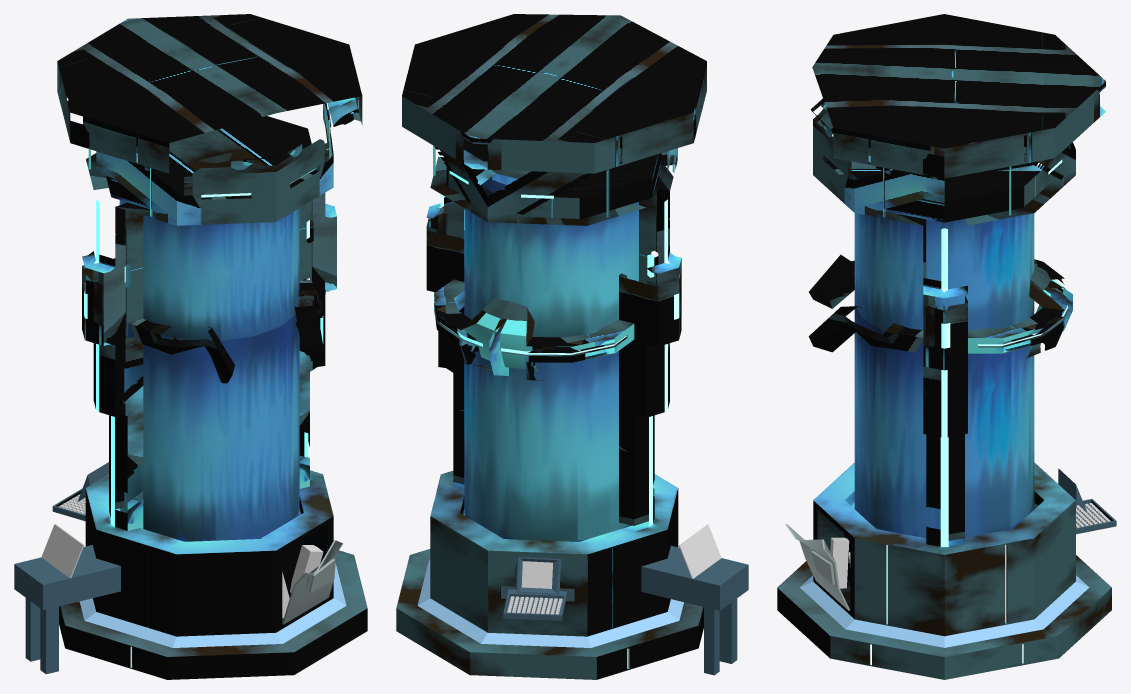
File: Core.fbx
3 views of the same model, side by side, from view 1: azimuth 30°, elevation 25°; view 2: azimuth 150°, elevation 25°; view 3: azimuth 270°, elevation 25° (orthographic).
Visible parts, largest first — view 1: Cube.002, Cube, Cylinder.001, Cylinder, Cube.012, Cube.040; view 2: Cube.002, Cube, Cylinder.001, Cylinder, Cube.001; view 3: Cube.002, Cube, Cylinder.001, Cylinder, Cube.012, Cube.026, Cube.001.
Part boxes in pixels (x1=…): Cube.002: x1=57, y1=14, x2=362, y2=530; Cube: x1=14, y1=462, x2=367, y2=679; Cylinder.001: x1=120, y1=299, x2=299, y2=541; Cylinder: x1=119, y1=120, x2=299, y2=340; Cube.012: x1=282, y1=540, x2=342, y2=624; Cube.040: x1=290, y1=545, x2=323, y2=592; Cube.002: x1=402, y1=14, x2=706, y2=526; Cube: x1=396, y1=470, x2=748, y2=679; Cylinder.001: x1=464, y1=307, x2=631, y2=541; Cylinder: x1=464, y1=164, x2=638, y2=339; Cube.001: x1=507, y1=596, x2=562, y2=614; Cube.002: x1=808, y1=14, x2=1105, y2=546; Cube: x1=777, y1=462, x2=1116, y2=679; Cylinder.001: x1=854, y1=303, x2=1034, y2=538; Cylinder: x1=854, y1=153, x2=1034, y2=337; Cube.012: x1=785, y1=524, x2=849, y2=610; Cube.026: x1=830, y1=537, x2=849, y2=588; Cube.001: x1=1076, y1=503, x2=1110, y2=527.
Size of the model in its own units: 413 by 681 by 378.
Materials: 9 (2 with a texture image).
